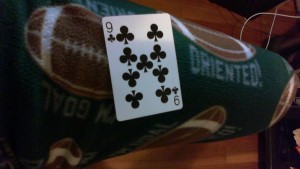NineOfClubs: (99, 12, 183, 121)
